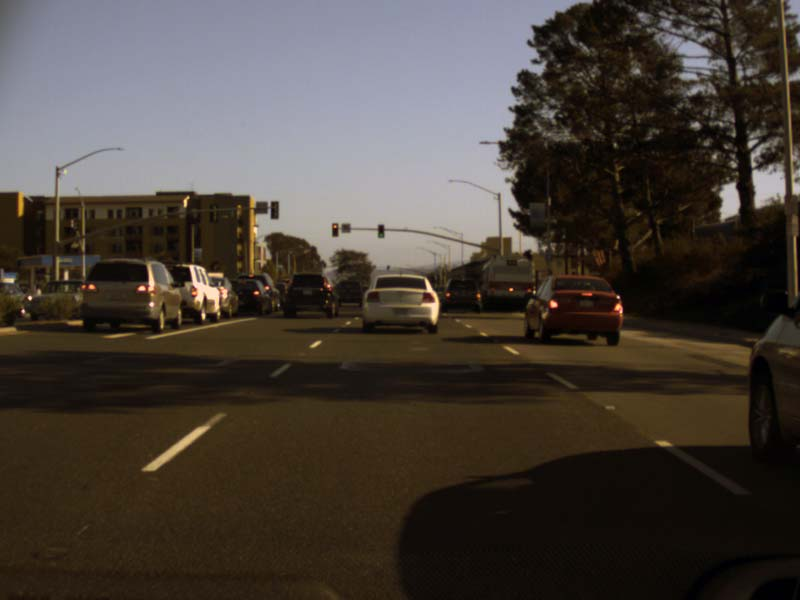Green: (377, 223, 384, 238)
Red: (331, 222, 339, 237)
